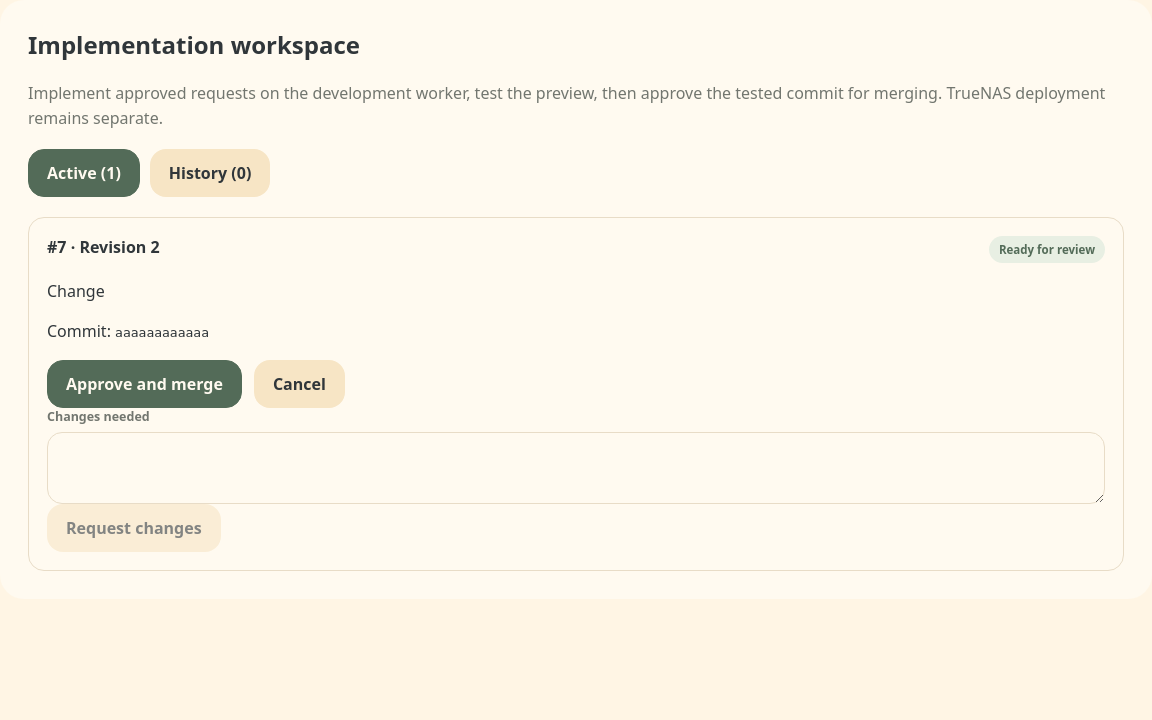
Scenario: Implementation controls › shows stale-approval failures instead of claiming a merge succeeded
The image size is (1152, 720).
Click the button "Approve and merge": (144, 384) 47,360 -> 242,408
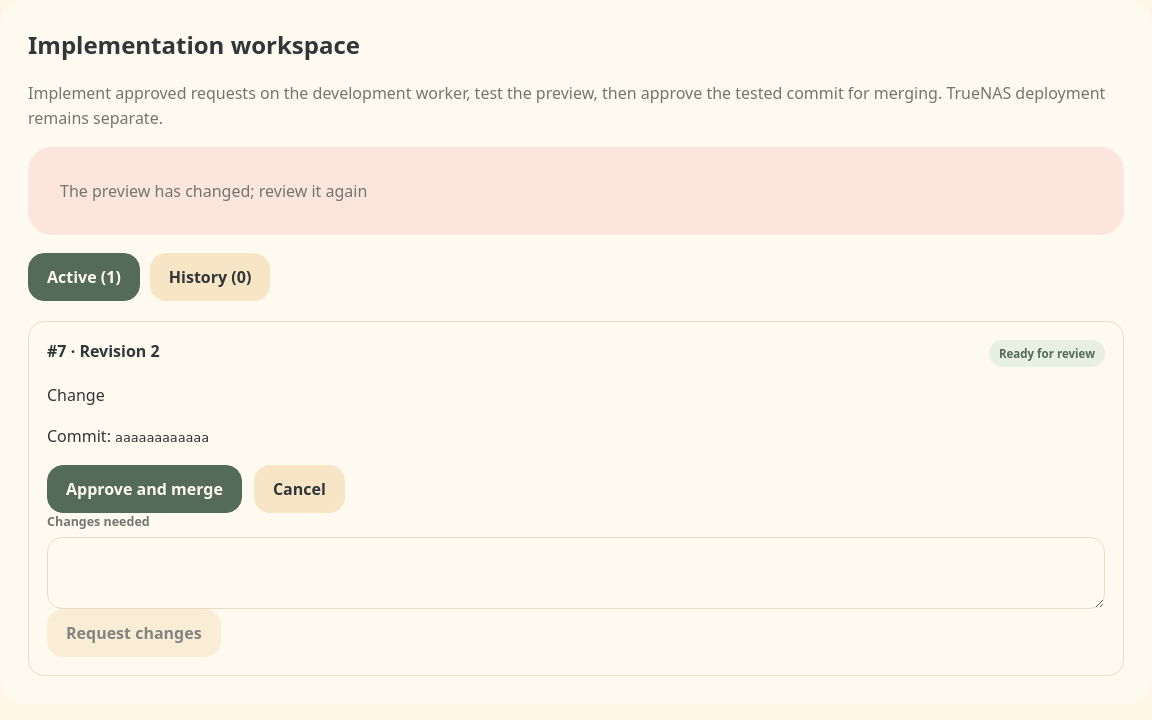
Expected: the message reads "The preview has changed; review it again", 60,180 -> 367,202
